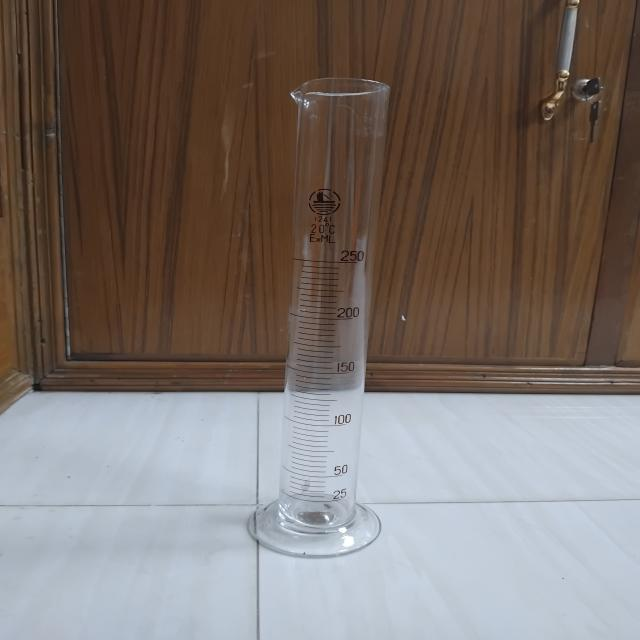Measuring_Cylinder: (198, 54, 442, 578)
